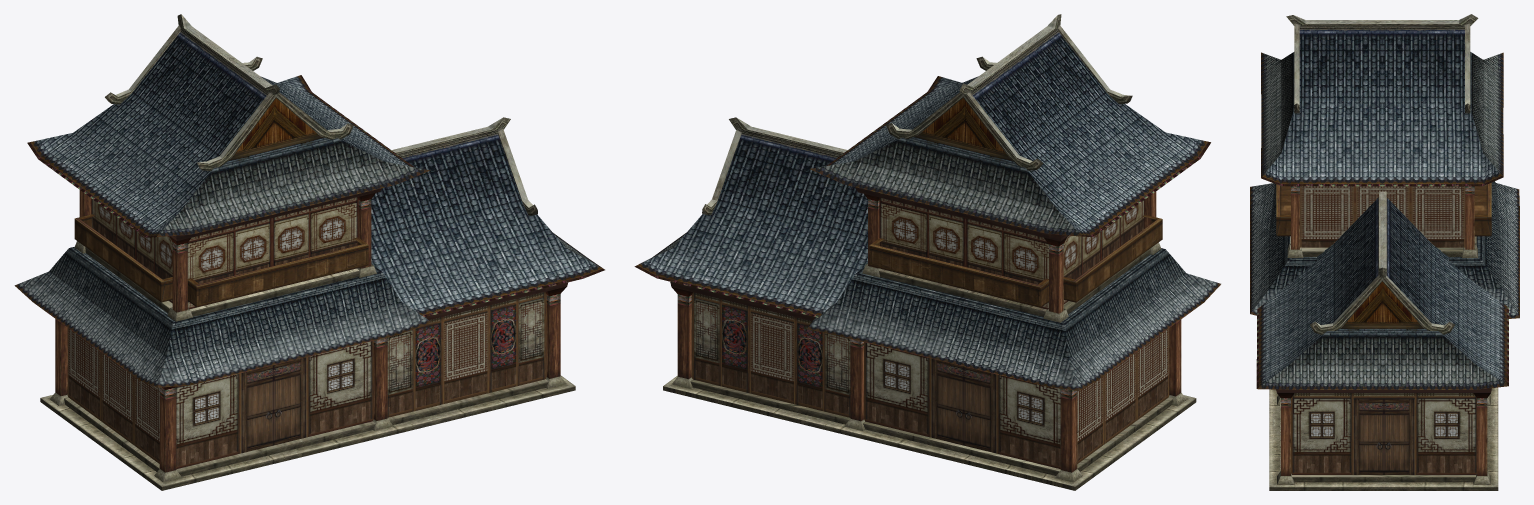
File: b1-007-itemshop_lod_01.fbx
The picture shows the model from 3 angles, left to right: view 1: azimuth 30°, elevation 25°; view 2: azimuth 150°, elevation 25°; view 3: azimuth 270°, elevation 25°; orthographic projection. The views are drawn at different scales.
Parts seen in each view (by area): view 1: b1-007-itemshop-01, b1-007-itemshop-02; view 2: b1-007-itemshop-01, b1-007-itemshop-02; view 3: b1-007-itemshop-01, b1-007-itemshop-02.
Part boxes in pixels (x1,y1,x2,y2): b1-007-itemshop-01: (14,14,604,387); b1-007-itemshop-02: (40,188,575,490); b1-007-itemshop-01: (634,14,1220,390); b1-007-itemshop-02: (663,187,1196,490); b1-007-itemshop-01: (1250,14,1519,389); b1-007-itemshop-02: (1269,183,1498,490).
Size of the model in its own units: 17.49 by 13.61 by 9.63.
